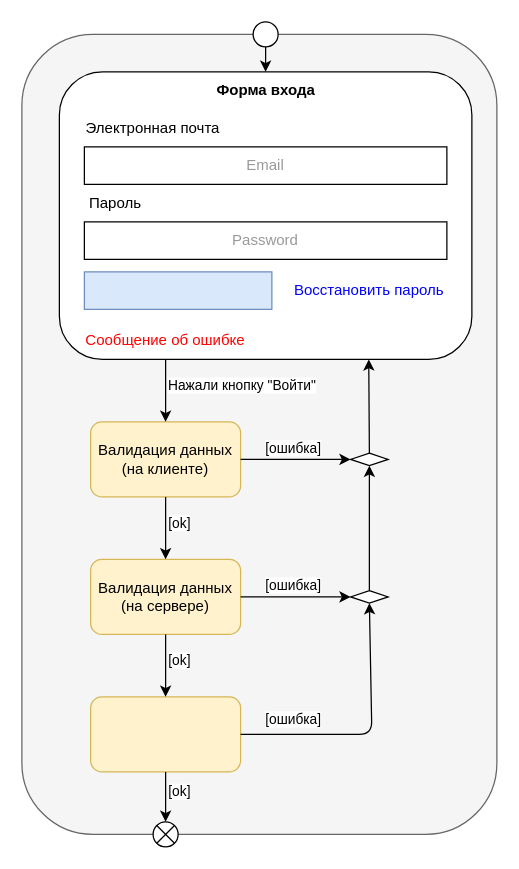
The diagram is 519 pixels wide and 869 high, and some of its shapes have lost their labels. The shapes that lost their labels are listed below. From the top down, each one's centre as x and y in pixels, then its label:
pixel 177 290: Войти
pixel 165 734: Проверка учётной запись пользователя
